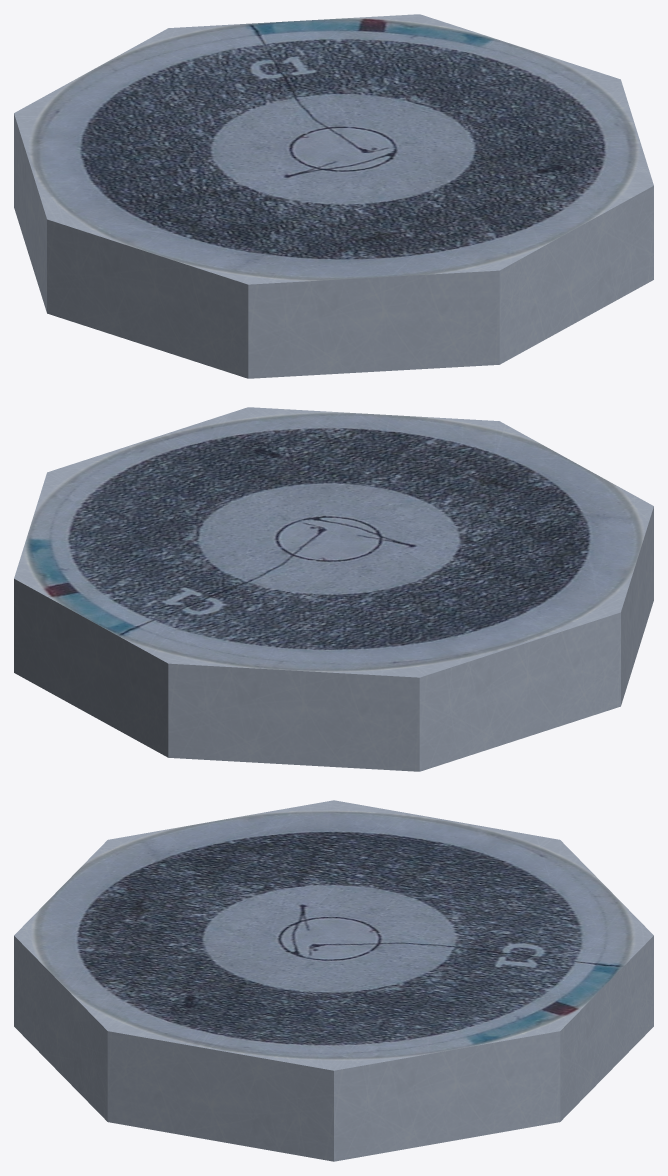
Rendered from PipestarHead_collision.dae.
3 views of the same model, one above another, from view 1: azimuth 30°, elevation 25°; view 2: azimuth 150°, elevation 25°; view 3: azimuth 270°, elevation 25° (orthographic). The views are drawn at different scales.
Visible parts, largest first — view 1: Cylinder_000; view 2: Cylinder_000; view 3: Cylinder_000.
Part boxes in pixels (x1,y1,x2,y2): Cylinder_000: (14, 14, 653, 378); Cylinder_000: (14, 407, 653, 771); Cylinder_000: (14, 800, 653, 1161).
Bounding box in the file's own units: 0.051 × 0.051 × 0.008.
1 material, 1 textured.
